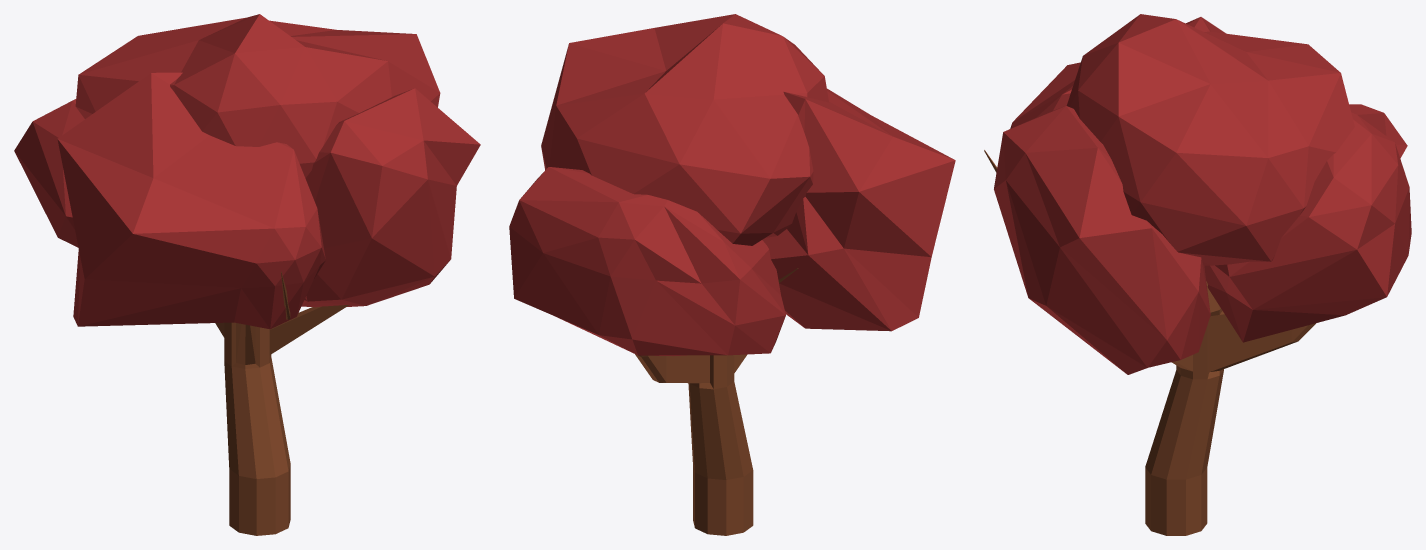
File: red.fbx
3 views of the same model, side by side, from view 1: azimuth 30°, elevation 25°; view 2: azimuth 150°, elevation 25°; view 3: azimuth 270°, elevation 25° (orthographic).
Parts seen in each view (by area): view 1: Cylinder.008; view 2: Cylinder.008; view 3: Cylinder.008.
Part boxes in pixels (x1=…): Cylinder.008: x1=14, y1=14, x2=480, y2=535; Cylinder.008: x1=509, y1=14, x2=955, y2=535; Cylinder.008: x1=984, y1=14, x2=1411, y2=535.
Size of the model in its own units: 1356 by 1790 by 1375.
1 material, 1 textured.
